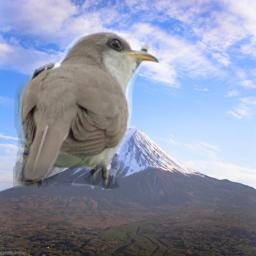Cuckoo: (13, 30, 159, 190)
